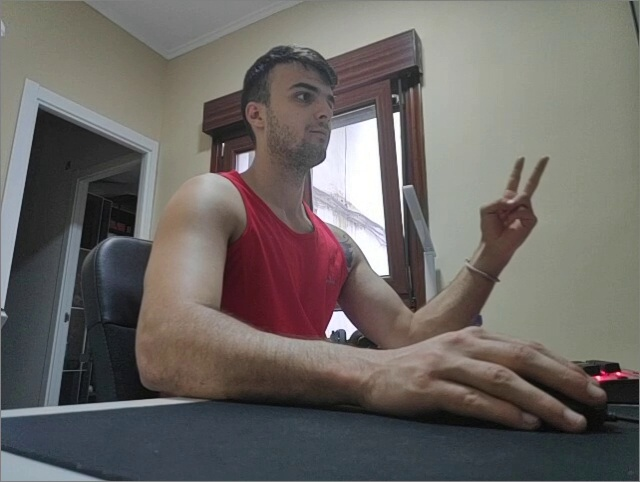Peace: (478, 153, 550, 250)
